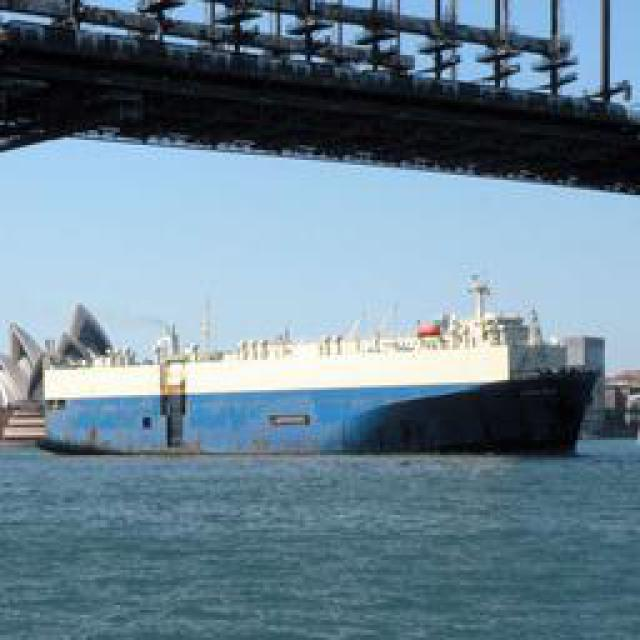Ship: (24, 315, 617, 463)
